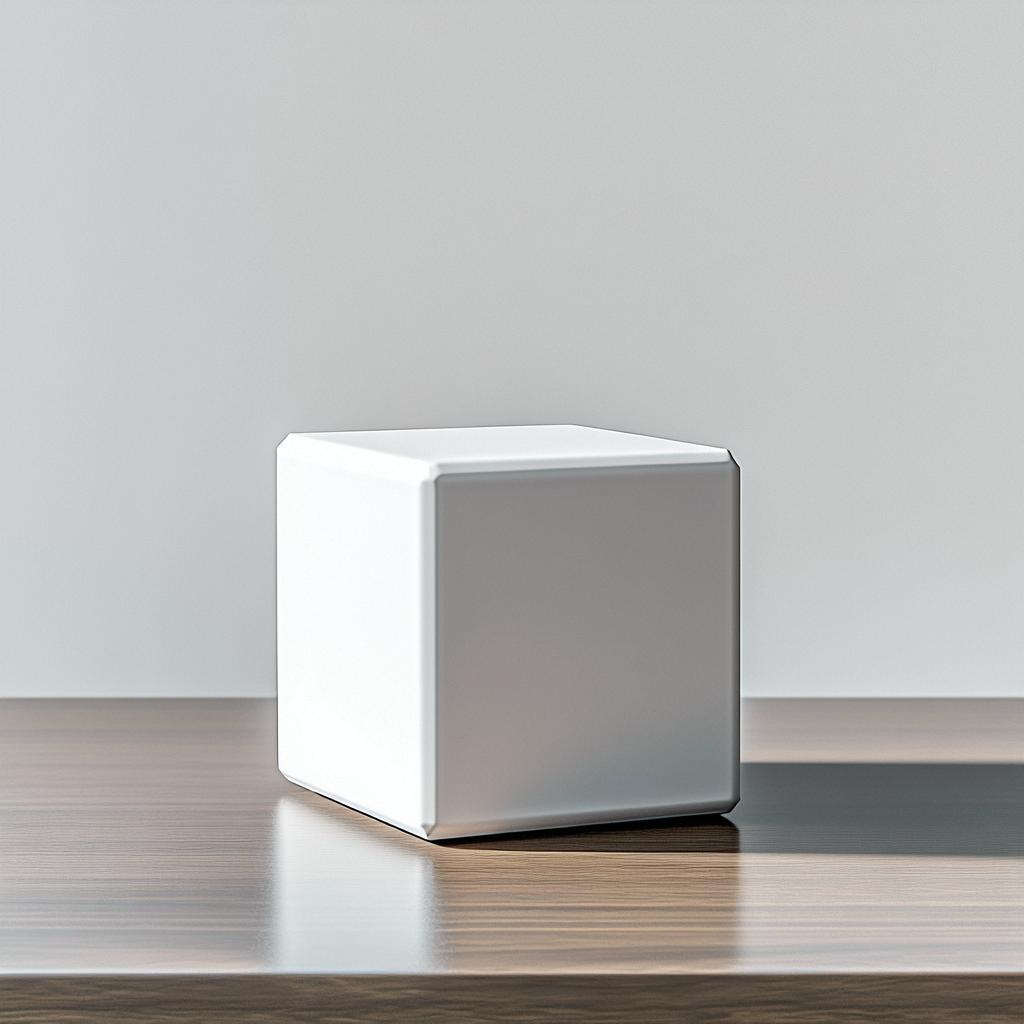cube: (274, 421, 742, 842)
